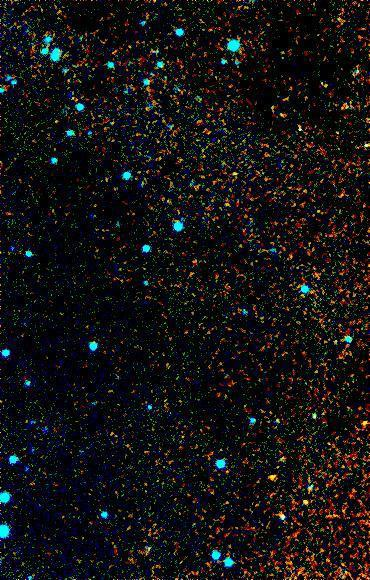star: (256, 463, 286, 493)
